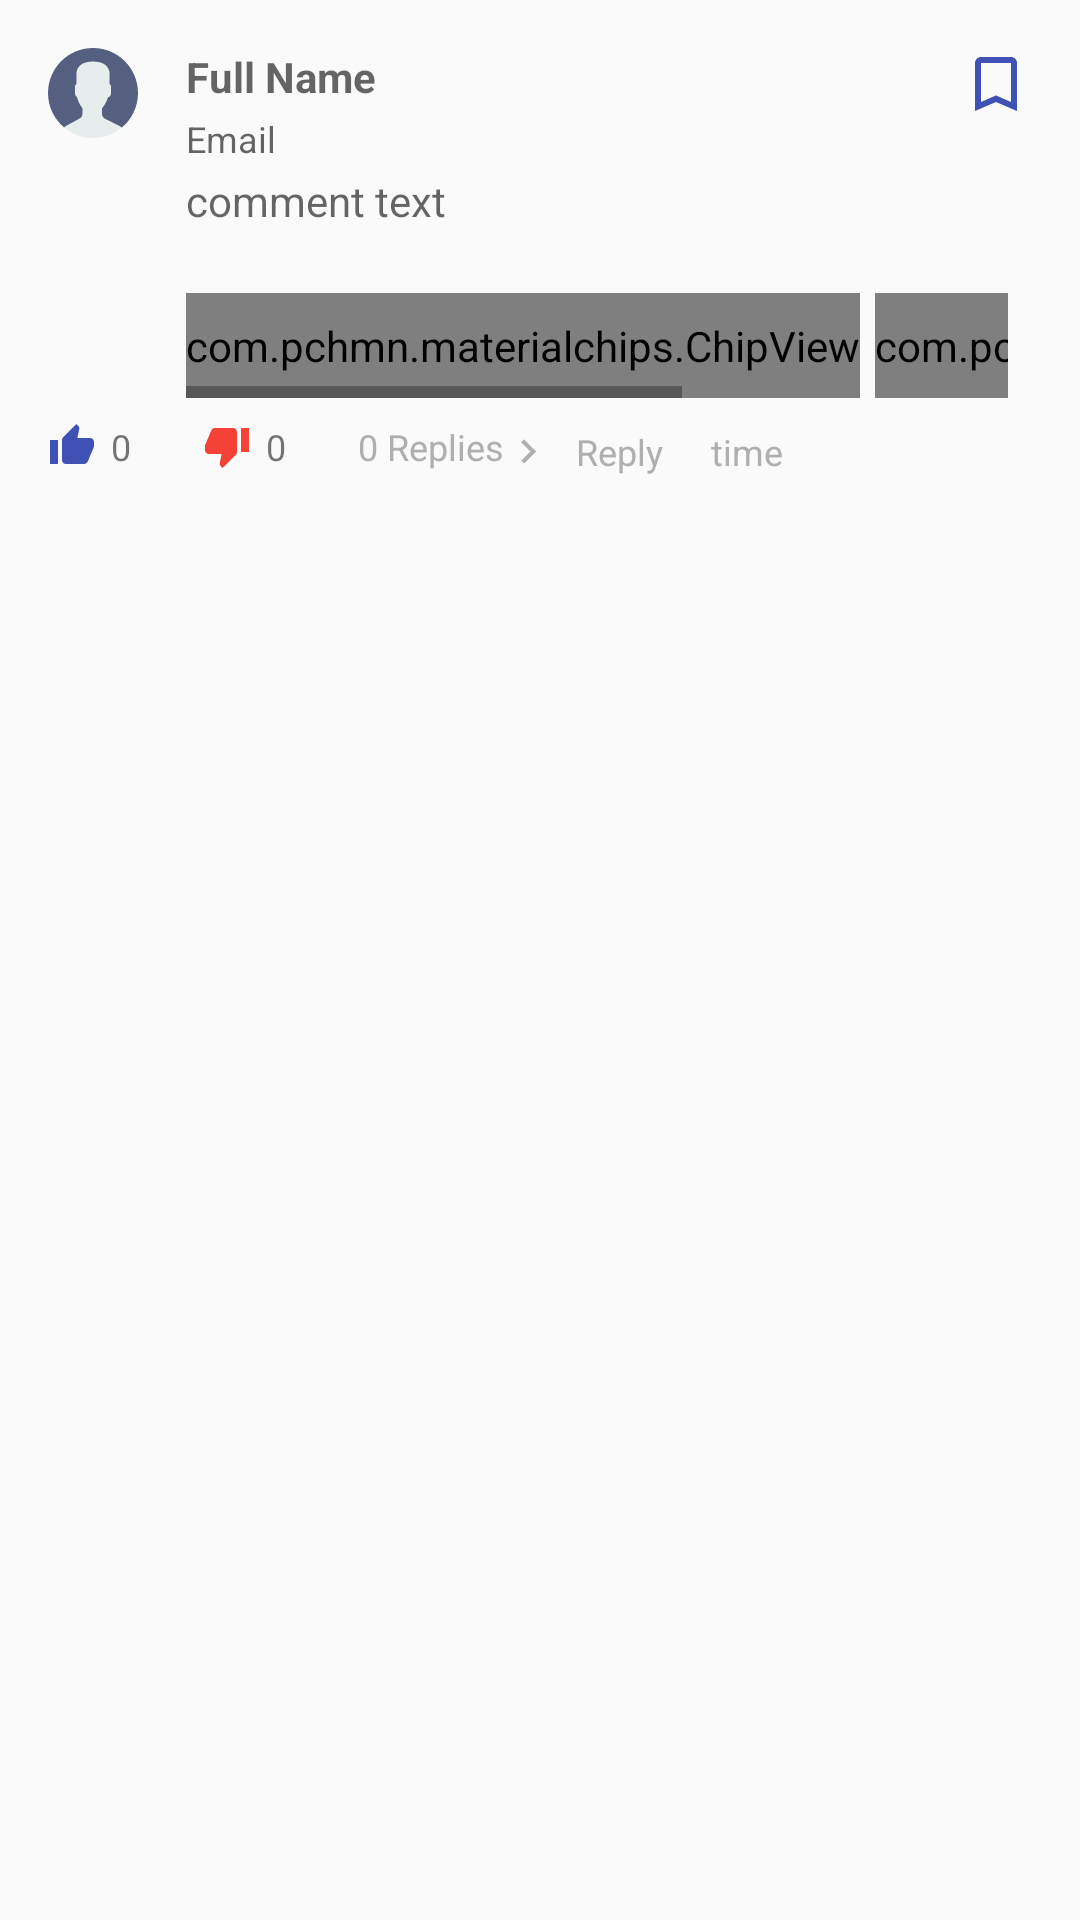

Locate icon controls on the screen. Image size 1080px×1920px, boxes as (x1, y1, x2, y2).
user: (48, 48, 138, 128)
